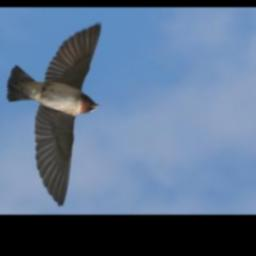Swallow: (6, 23, 103, 208)
